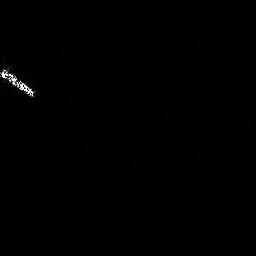ship: (1, 65, 37, 101)
